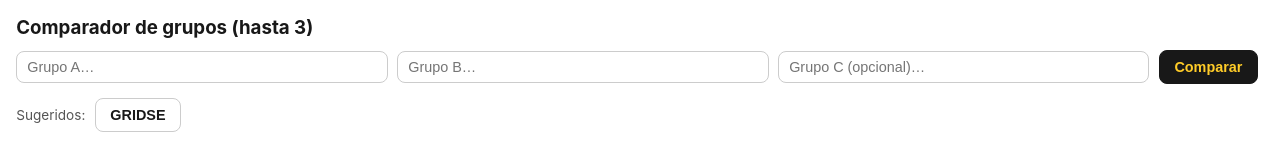
Test: comparador › cada campo con contenido ofrece su propio botón de quitar
Expected: the heading "Comparador de grupos (hasta 3)" is shown, [16, 16, 313, 39]
In the field with placeholder "Grupo A…": (202, 67) [16, 51, 388, 83], type "GRIDSE"
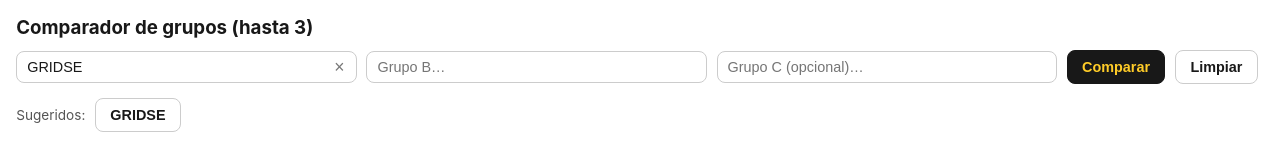
Now the number of buttons named "Quitar el grupo A" is 1, box [328, 56, 351, 79]
